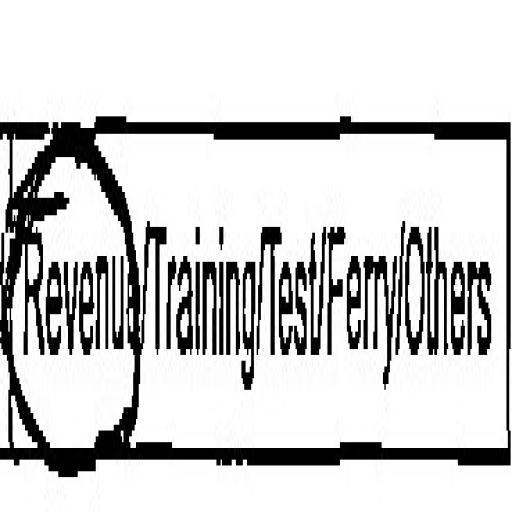check: (0, 44, 142, 512)
